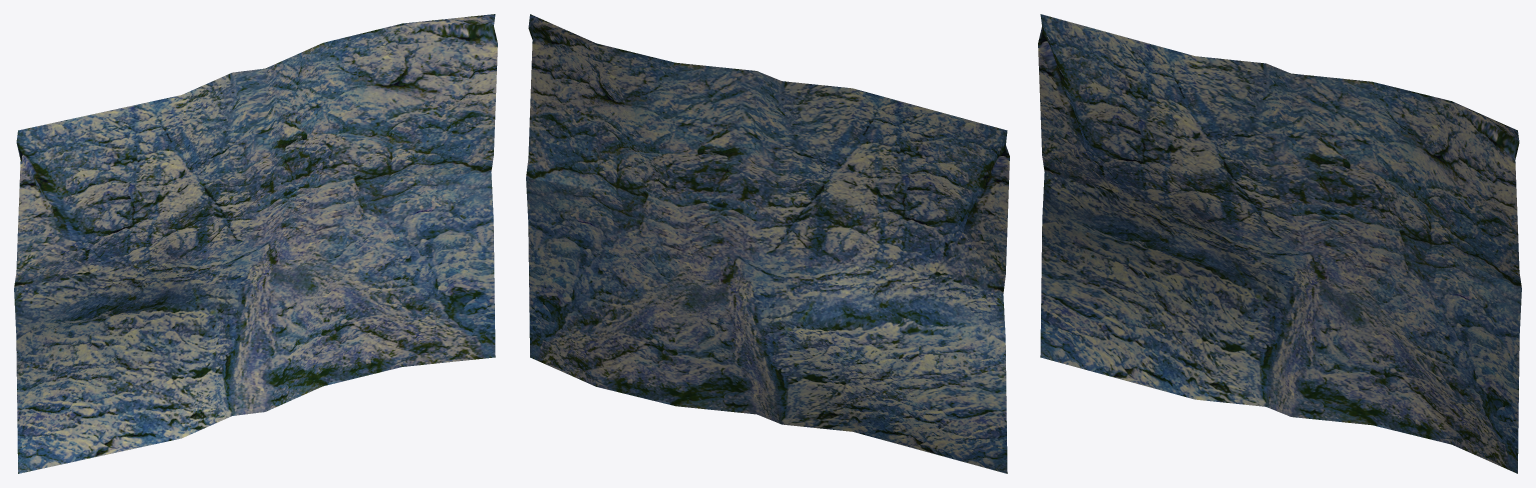
Rendered from rockWall_01.fbx.
3 renders of one model, left to right at view 1: azimuth 30°, elevation 25°; view 2: azimuth 150°, elevation 25°; view 3: azimuth 330°, elevation 25°, orthographic.
Visible parts, largest first — view 1: pPlane8; view 2: pPlane8; view 3: pPlane8.
Boxes of the visible parts, x1,y1,x2,y2 form: pPlane8: (14, 14, 497, 473); pPlane8: (526, 14, 1009, 473); pPlane8: (1038, 14, 1521, 473).
Size of the model in its own units: 16 by 1.23 by 11.
